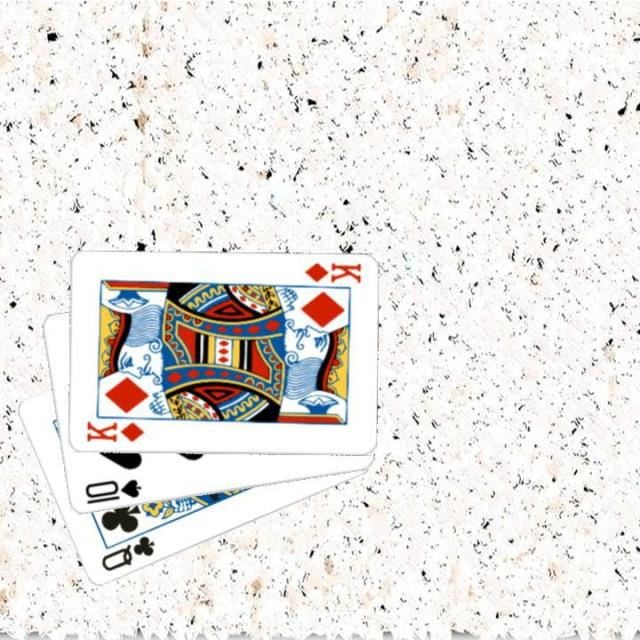10S: (80, 476, 143, 506)
KD: (82, 418, 146, 444), (300, 259, 362, 285)
QC: (97, 532, 156, 574)
